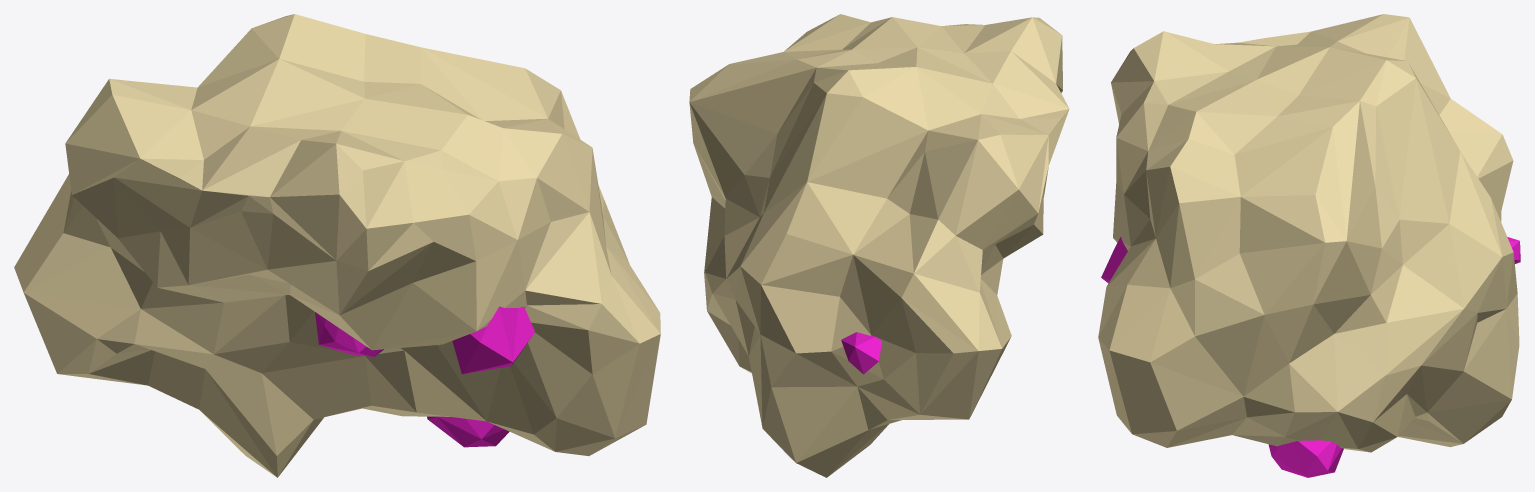
The model's file is CrystalOre (6).fbx.
The picture shows the model from 3 angles, left to right: view 1: azimuth 30°, elevation 25°; view 2: azimuth 150°, elevation 25°; view 3: azimuth 270°, elevation 25°; orthographic projection. The views are drawn at different scales.
Parts seen in each view (by area): view 1: Asteroid226; view 2: Asteroid226; view 3: Asteroid226.
Part boxes in pixels (x1,y1,x2,y2): Asteroid226: (14, 14, 660, 477); Asteroid226: (689, 14, 1069, 477); Asteroid226: (1098, 14, 1520, 477).
Bounding box in the file's own units: 287 × 275 × 269.
